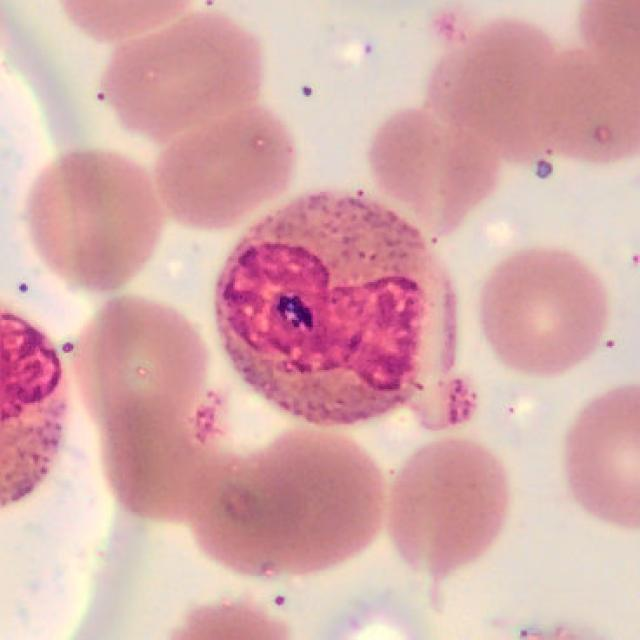Metamielocito: (216, 192, 438, 427)
